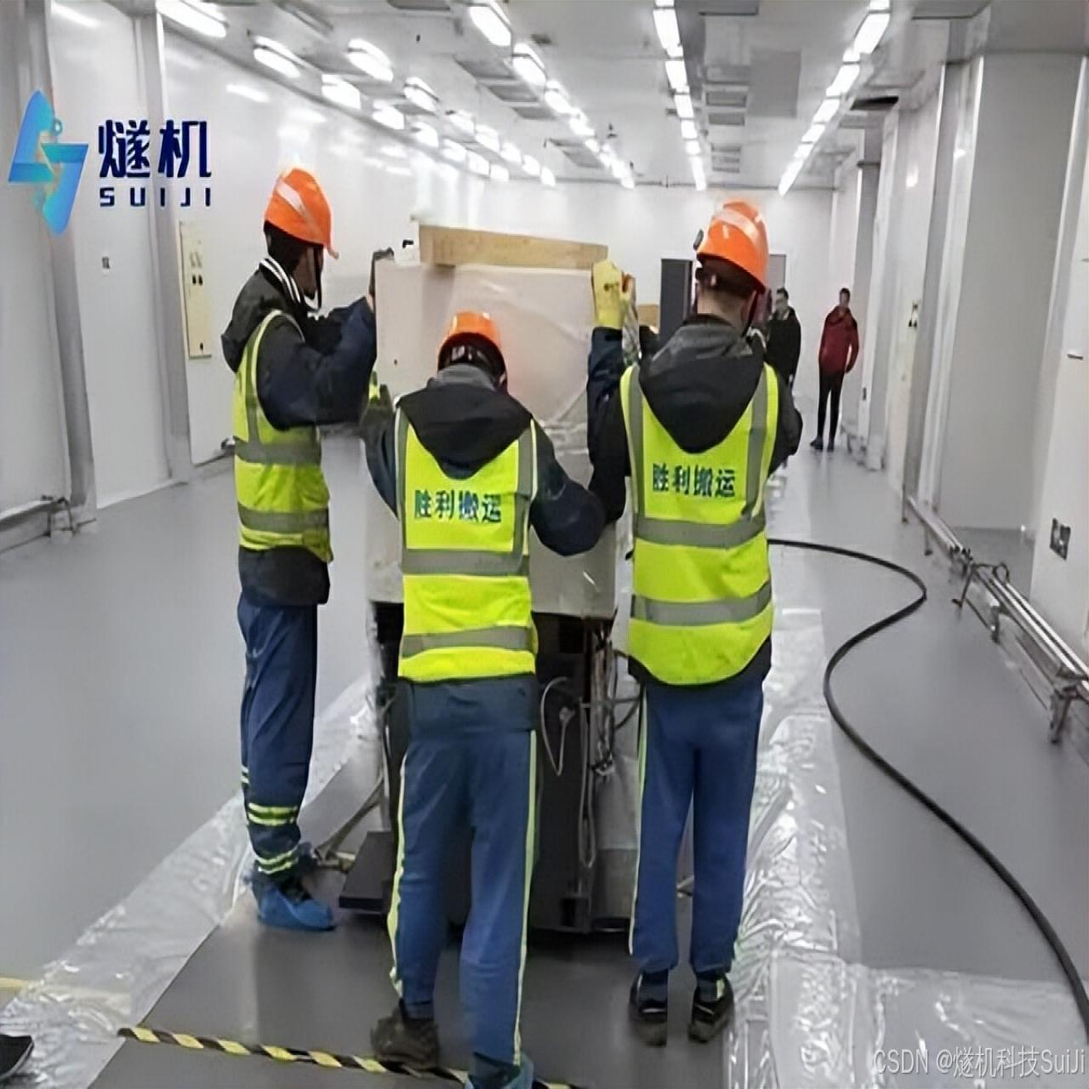NO_Safety_Vest: (815, 305, 855, 377), (766, 314, 796, 376)
Person: (357, 297, 605, 1078), (607, 180, 809, 1052), (224, 157, 381, 916), (810, 285, 857, 453), (760, 283, 798, 471)
Safety_Vest: (614, 344, 779, 697), (382, 385, 558, 684), (228, 292, 339, 589)
